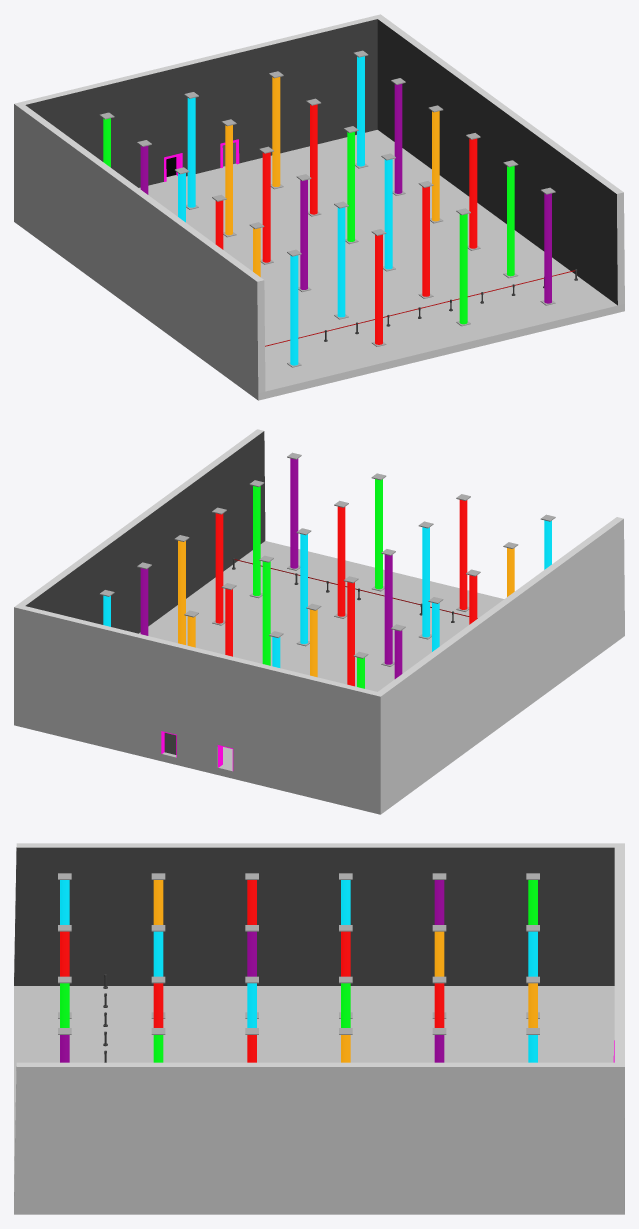
File: pokoj_neony.glb
3 views of the same model, one above another, from view 1: azimuth 30°, elevation 25°; view 2: azimuth 150°, elevation 25°; view 3: azimuth 270°, elevation 25° (orthographic). The views are drawn at different scales.
Visible parts, largest first — view 1: pokój, Column.036, Column.002, Column.021, Column.051, Column.027, Column.042, Column.060, Column.066, Column.033, Column.054, Column.057 (+8 smaller); view 2: pokój, Column.039, Column.054, Column.060, Column.024, Column.018, Column.045, Column.042, Column.057, Column.021, Column.036, Column.027 (+4 smaller); view 3: pokój, Column.004, Column.012, Column.021, Column.030, Column.039, Column.048, Column.002, Column.006, Column.009, Column.015, Column.036 (+7 smaller).
Part boxes in pixels (box(x1,y1,x2,y2)): pokój: box(14, 14, 624, 400); Column.036: box(456, 208, 470, 326); Column.002: box(287, 249, 301, 367); Column.021: box(334, 201, 348, 319); Column.051: box(269, 71, 283, 189); Column.027: box(259, 146, 273, 264); Column.042: box(381, 153, 395, 271); Column.060: box(466, 133, 480, 250); Column.066: box(391, 78, 405, 195); Column.033: box(184, 92, 198, 209); Column.054: box(540, 187, 555, 305); Column.057: box(503, 160, 518, 278); pokój: box(14, 429, 624, 814); Column.039: box(334, 500, 348, 618); Column.054: box(287, 452, 301, 570); Column.060: box(212, 507, 226, 625); Column.024: box(381, 549, 395, 666); Column.018: box(456, 494, 470, 611); Column.045: box(259, 555, 273, 665); Column.042: box(296, 528, 311, 646); Column.057: box(249, 480, 264, 598); Column.021: box(418, 521, 433, 639); Column.036: box(371, 473, 386, 591); Column.027: box(343, 576, 358, 686); pokój: box(14, 843, 624, 1214); Column.004: box(151, 873, 165, 1018); Column.012: box(432, 873, 446, 1018); Column.021: box(151, 925, 165, 976); Column.030: box(432, 925, 446, 976); Column.039: box(151, 976, 165, 1027); Column.048: box(432, 976, 446, 1027); Column.002: box(58, 873, 71, 1018); Column.006: box(245, 873, 258, 1018); Column.009: box(339, 873, 352, 1018); Column.015: box(526, 873, 539, 1018); Column.036: box(58, 976, 71, 1027).
Bounding box in the file's own units: 52 × 16.18 × 60.02.
